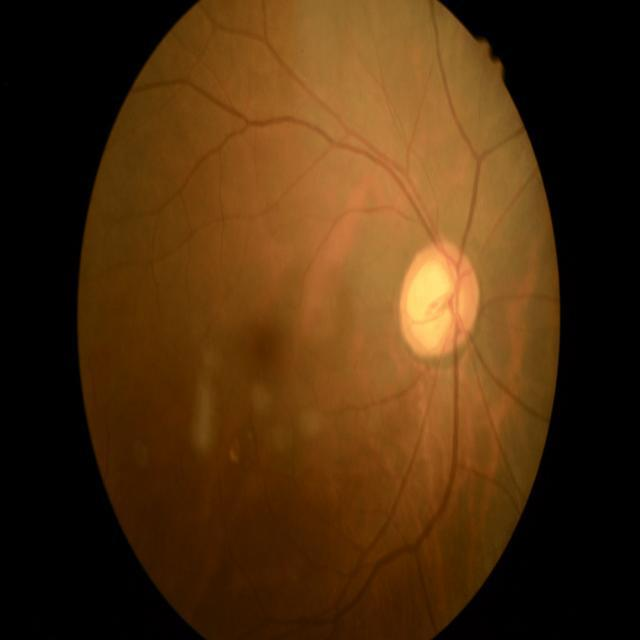cup: (408, 260, 468, 346)
disk: (399, 239, 482, 360)
